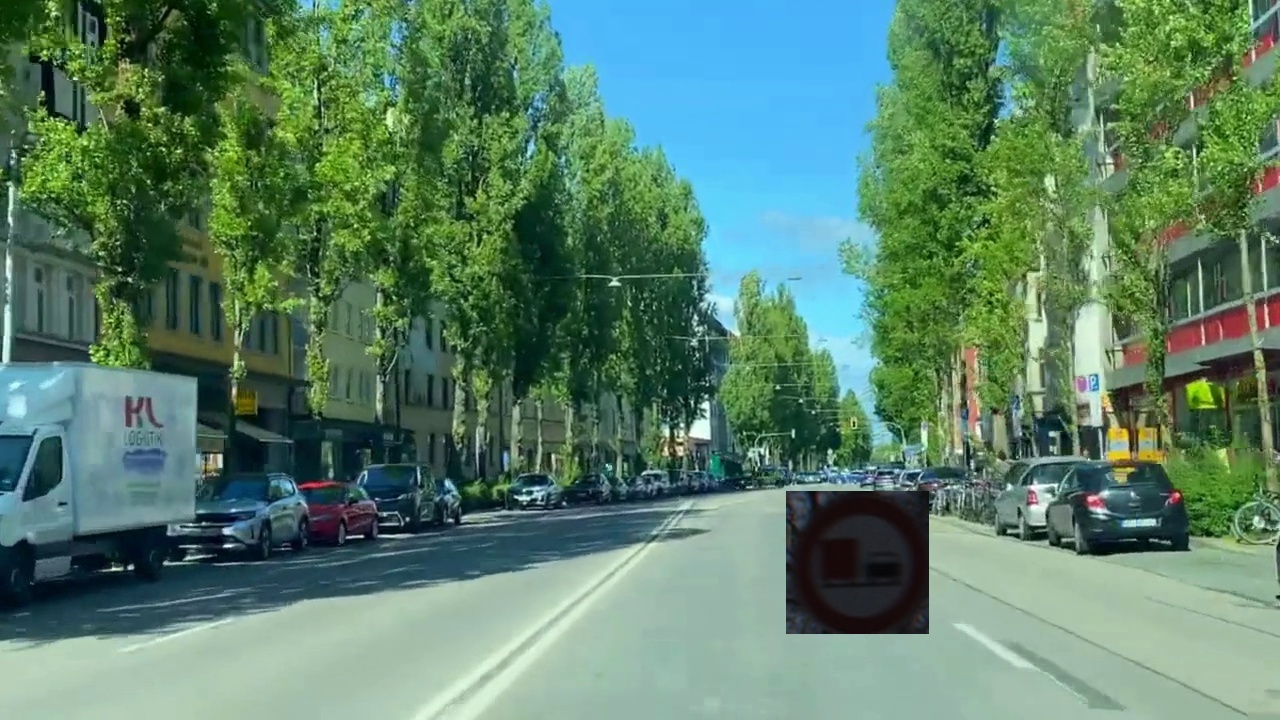No pass >3.5t: (786, 491, 929, 634)
